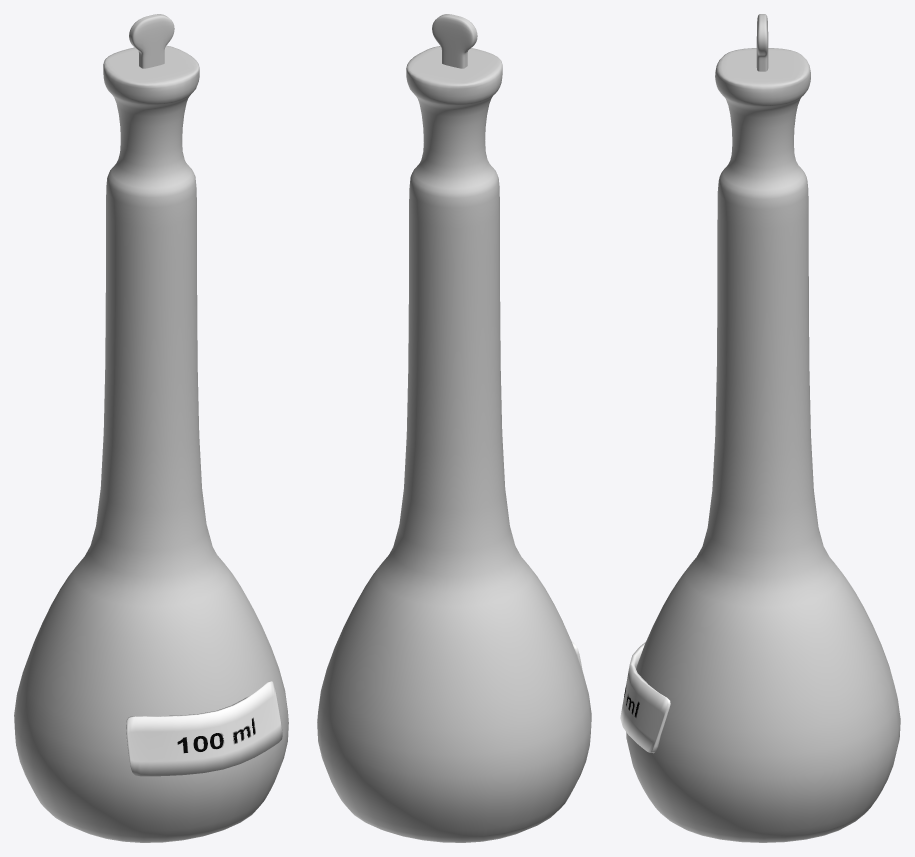
The model's file is Labu takar 100ml.fbx.
3 views of the same model, side by side, from view 1: azimuth 30°, elevation 25°; view 2: azimuth 150°, elevation 25°; view 3: azimuth 270°, elevation 25° (orthographic).
Visible parts, largest first — view 1: Cube.060, Cube.105; view 2: Cube.060; view 3: Cube.060, Cube.105.
Boxes of the visible parts, x1,y1,x2,y2 form: Cube.060: [14, 14, 288, 842]; Cube.105: [126, 681, 282, 776]; Cube.060: [317, 14, 591, 842]; Cube.060: [626, 14, 900, 842]; Cube.105: [620, 642, 670, 753].
Size of the model in its own units: 6.15 by 19.41 by 6.27.
Materials: 2 (1 with a texture image).
